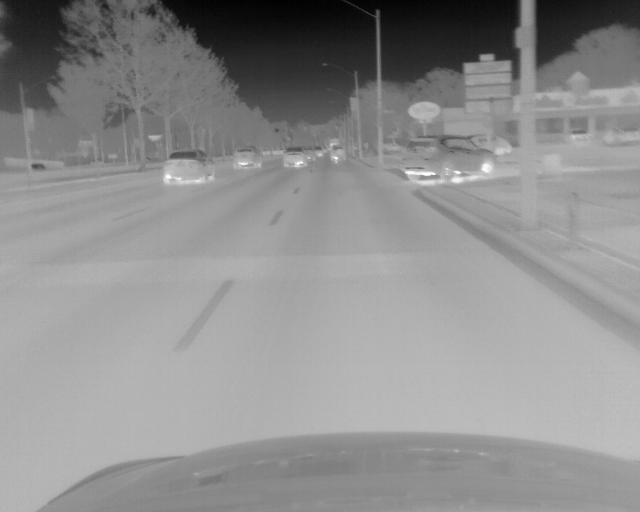car: (399, 136, 494, 183), (161, 150, 214, 185), (230, 147, 263, 169), (281, 147, 308, 169), (328, 144, 344, 164), (305, 148, 315, 164), (315, 146, 323, 157)
